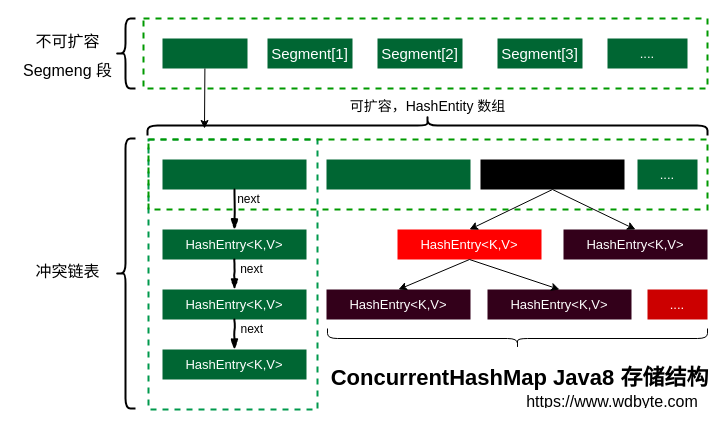
This 725x427 diagram has some shape labels left out. Each missing label, with the centre of its shape:
"HashEntry<K,V>[0]" belongs at point 234,174.
"HashEntry<K,V>[1]" belongs at point 398,174.
"HashEntry<K,V>[2]" belongs at point 552,174.
"Segment[0]" belongs at point 204,53.
"红黑树，示意图，忽略个数" belongs at point 517,338.
